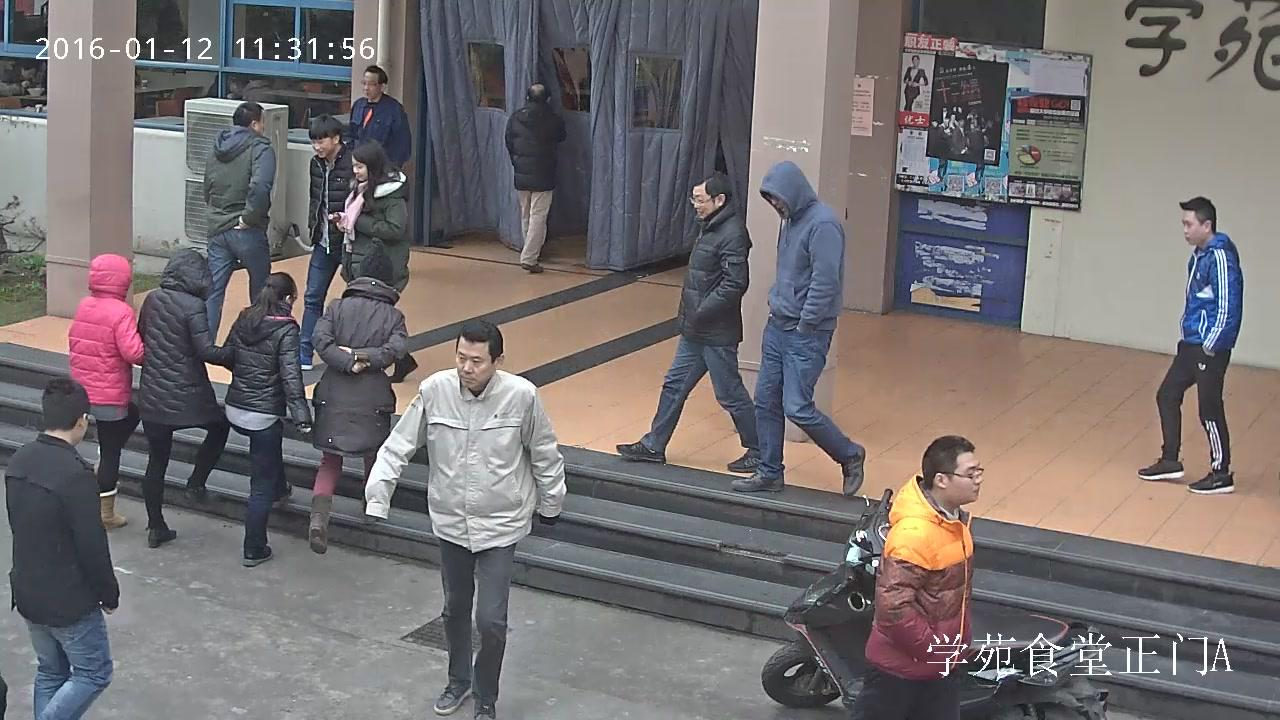person: (364, 320, 567, 720), (731, 159, 866, 494), (616, 172, 762, 473), (3, 379, 119, 720), (858, 433, 983, 720), (307, 236, 409, 553), (1135, 196, 1243, 493), (133, 246, 225, 548), (221, 271, 313, 566), (326, 136, 419, 383), (67, 253, 144, 531), (203, 101, 276, 346), (297, 114, 355, 371), (505, 82, 566, 273), (348, 65, 412, 183), (0, 58, 46, 97), (230, 72, 278, 105), (903, 54, 928, 112)
